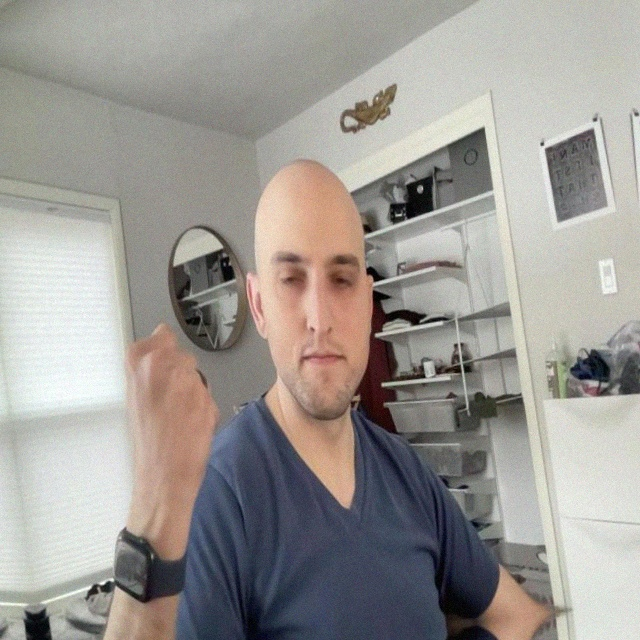Rock: (111, 316, 228, 503)
